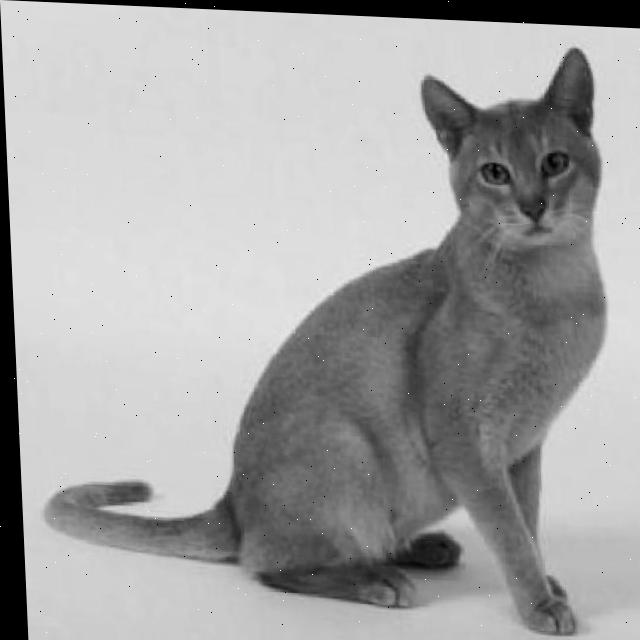Cat: (18, 21, 624, 640)
